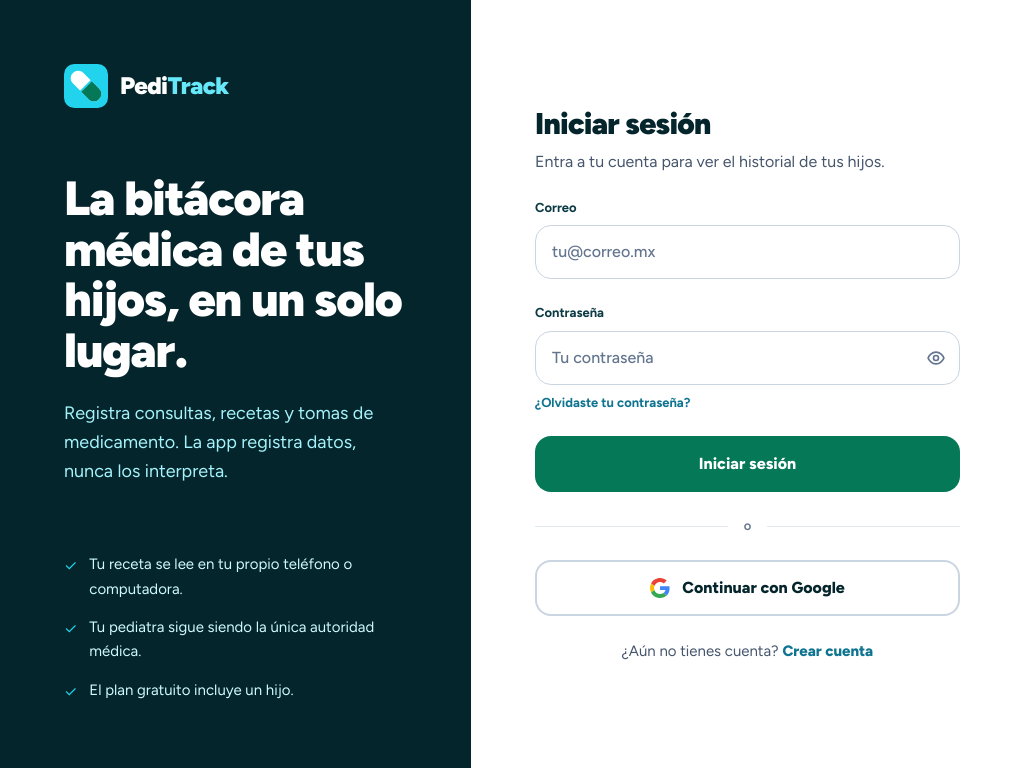
Test: LoginPage › lets the tutor see the password with the eye button
This screenshot has width=1024, height=768.
Type "secreto" into the password field labelled "Contraseña" at [748, 358], box left=535, top=331, right=960, bottom=385
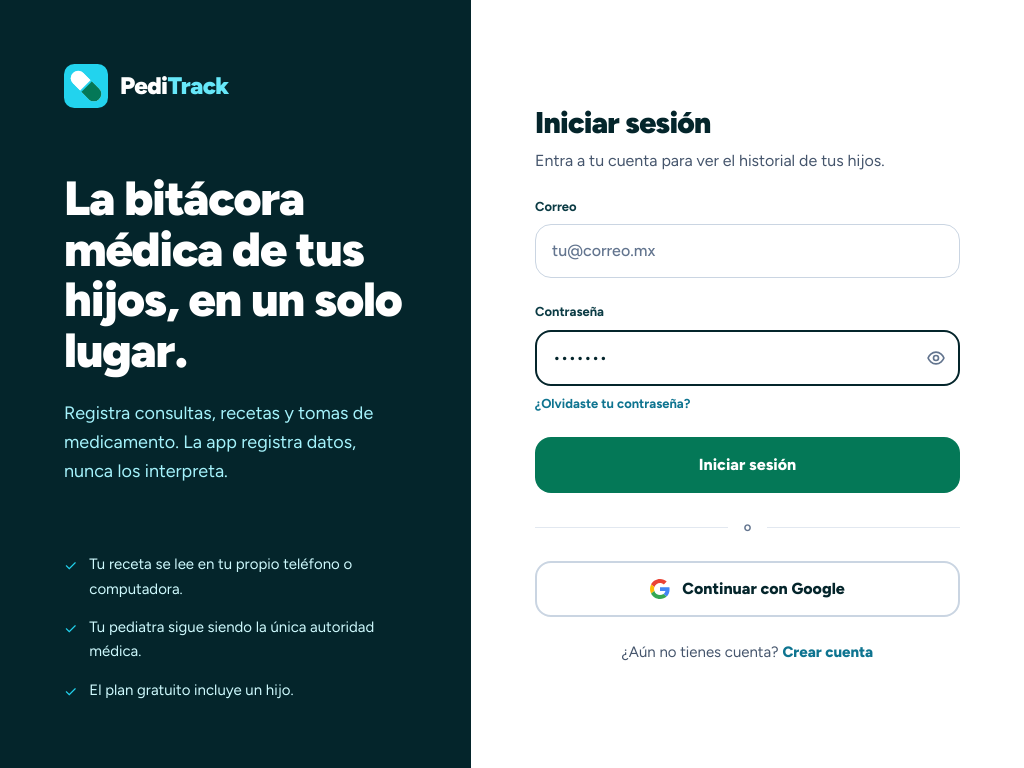
Click the button named "Mostrar contraseña" at [936, 358], box left=918, top=340, right=954, bottom=376
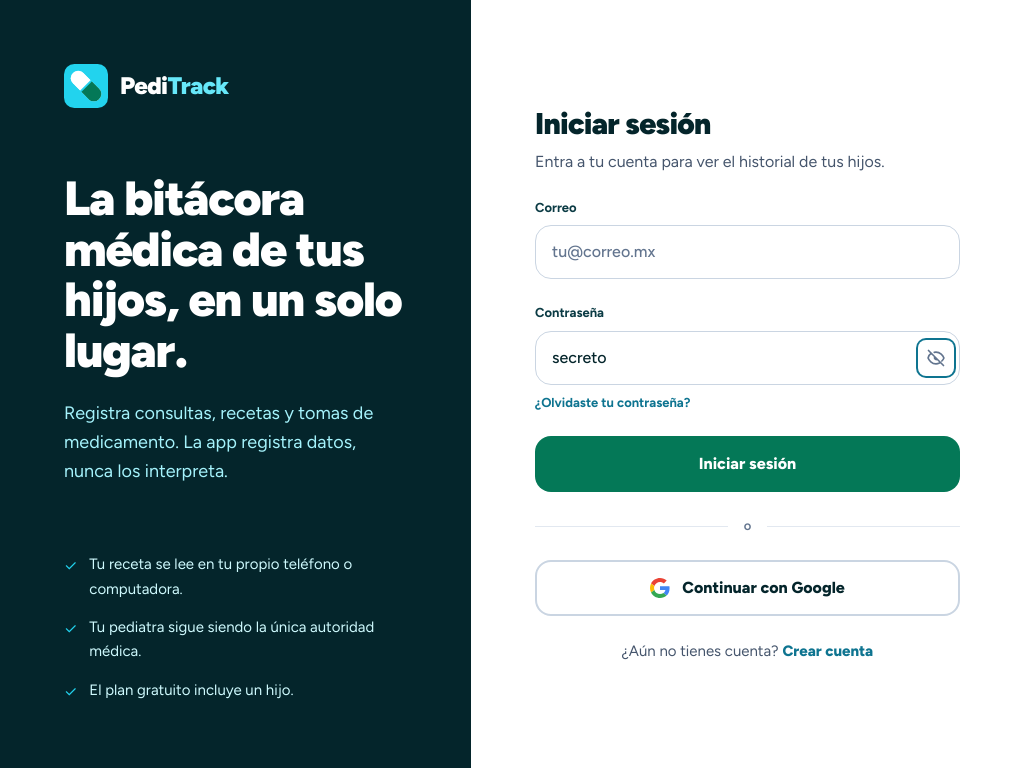
Expected: the field labelled "Contraseña" shows its text, left=535, top=331, right=960, bottom=385
